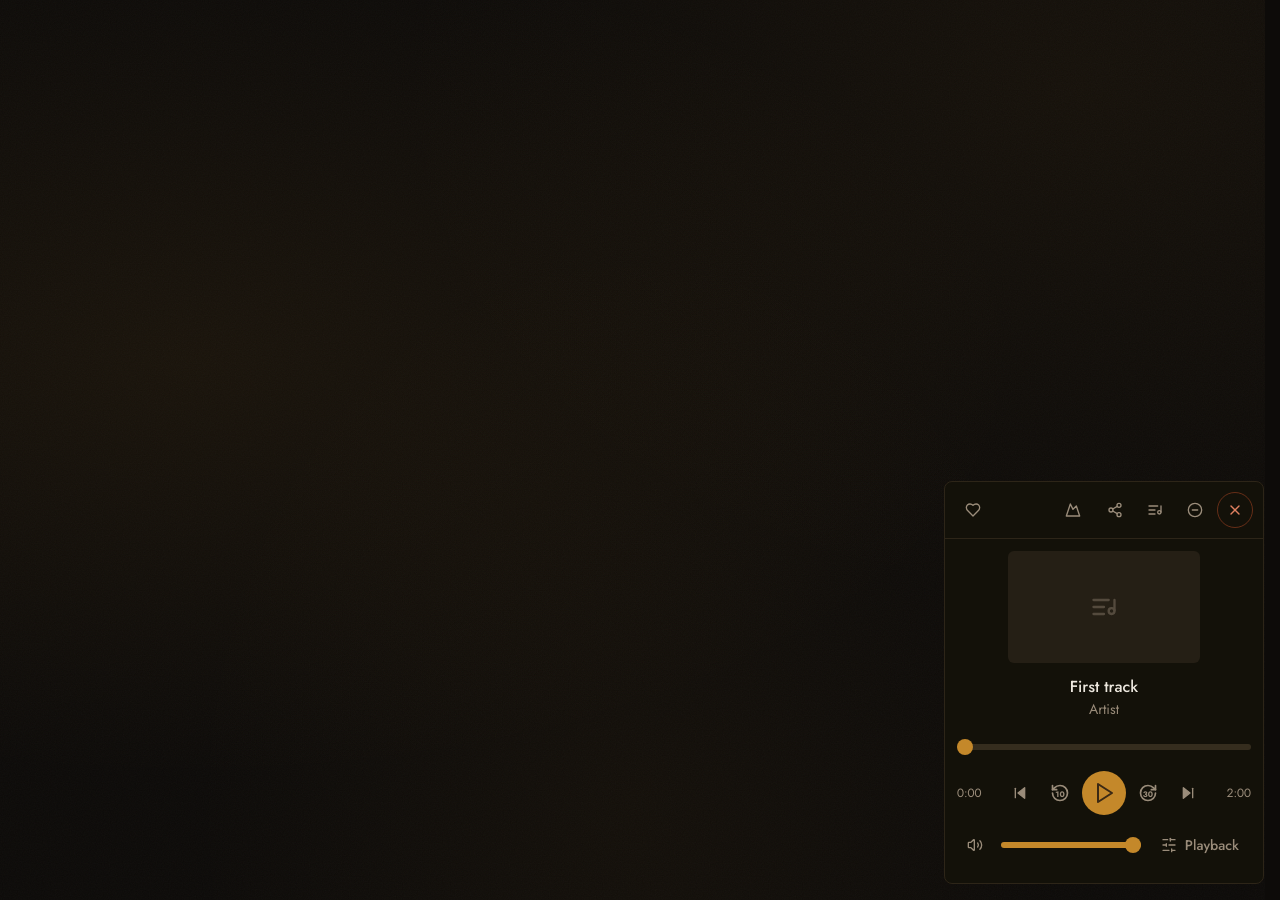
Test case: AudioPlayer sharing › shows an error toast when copying from the expanded player fails
What coordinates should you click on to do the following:
click the button named "Copy share link"
I would click on:
 (1115, 510)
Its box is x1=1097 y1=492 x2=1133 y2=528.
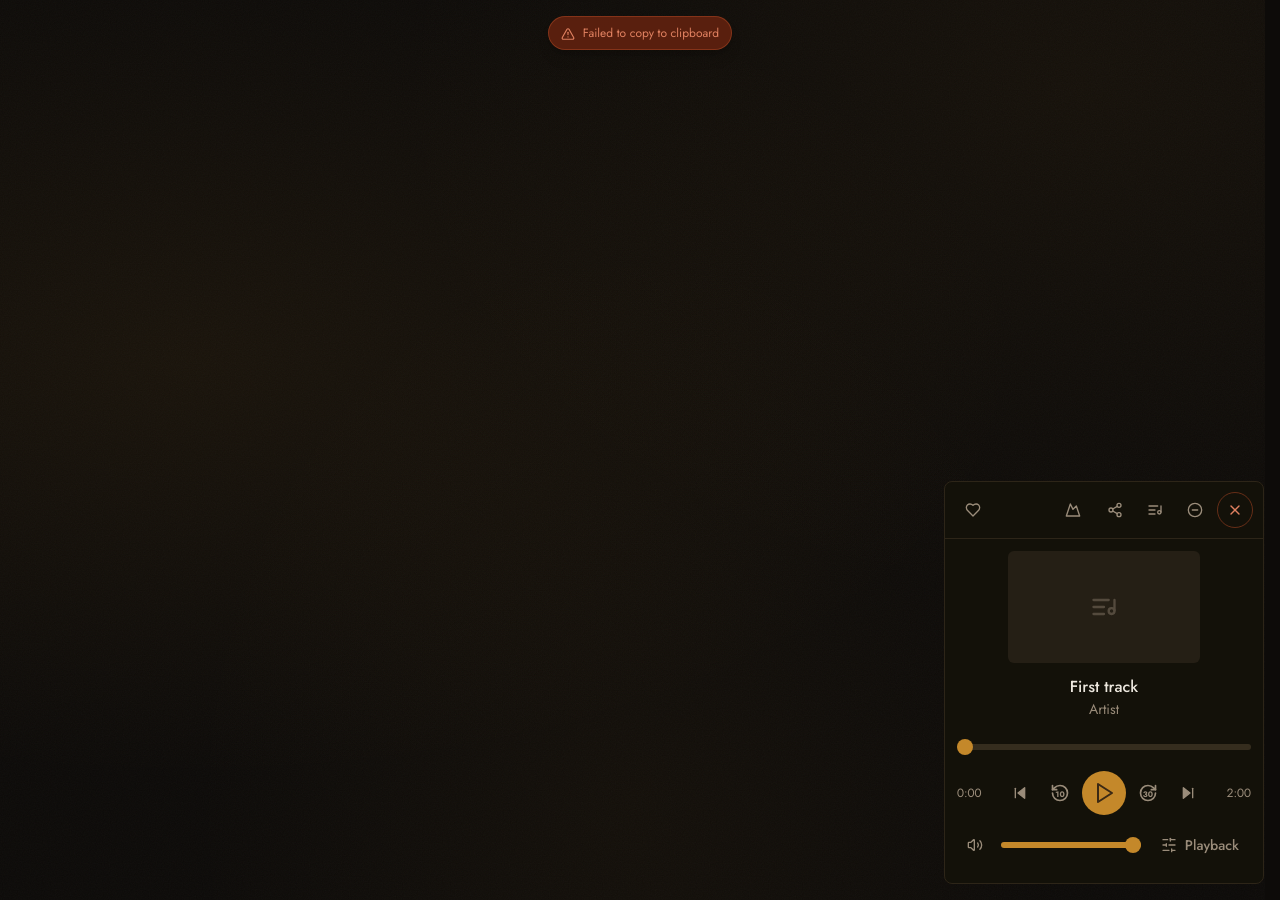
Now the message reads "Failed to copy to clipboard", box x1=583 y1=24 x2=719 y2=42
